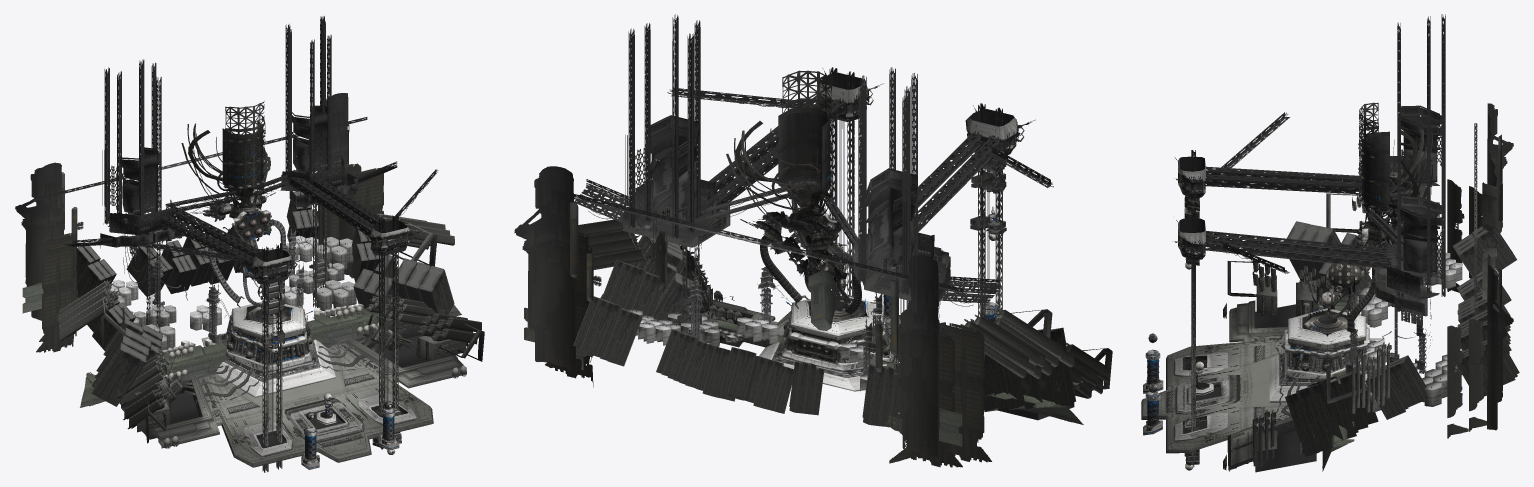
File: ebg002.glb
3 renders of one model, left to right at view 1: azimuth 30°, elevation 25°; view 2: azimuth 150°, elevation 25°; view 3: azimuth 270°, elevation 25°, orthographic. The views are drawn at different scales.
Visible parts, largest first — view 1: ebg002; view 2: ebg002; view 3: ebg002.
Part boxes in pixels (x1,y1,x2,y2): ebg002: [15, 16, 484, 472]; ebg002: [514, 14, 1112, 467]; ebg002: [1141, 14, 1519, 472].
Bounding box in the file's own units: 53.38 × 44.16 × 41.05.
Materials: 22 (22 with a texture image).
